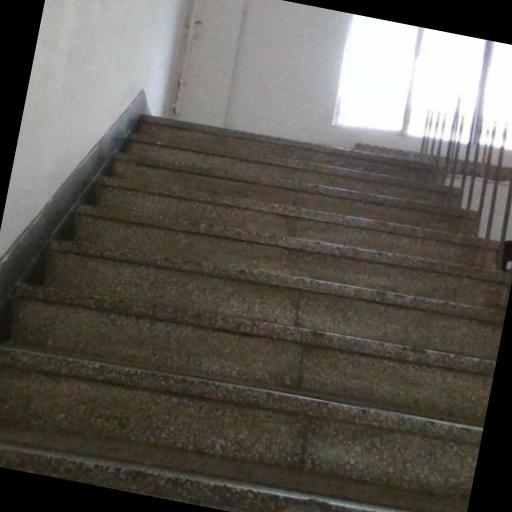stairs: (0, 119, 509, 511)
